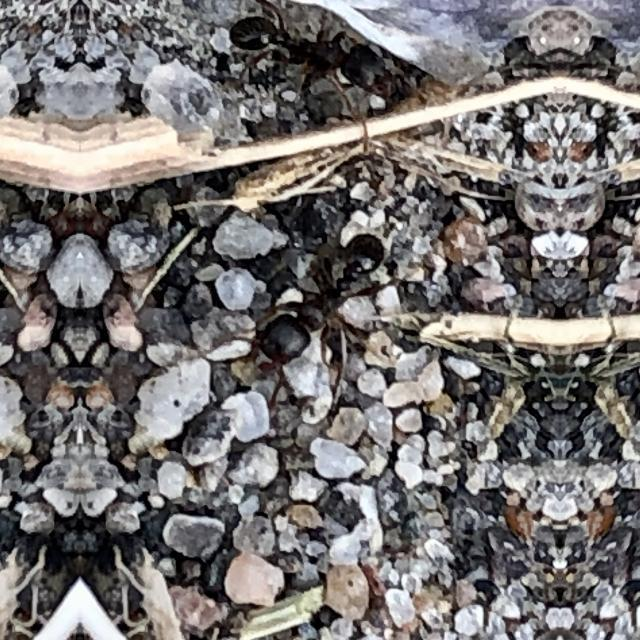Tetramorium: (227, 194, 428, 386), (218, 10, 444, 132)
